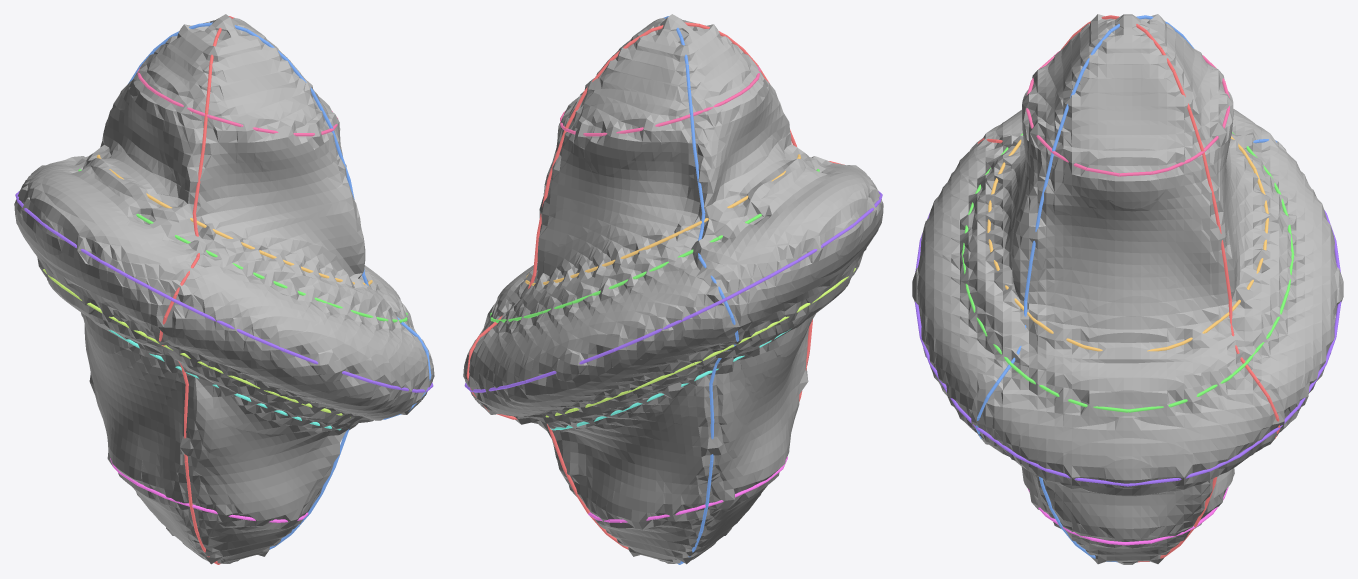
Rendered from flowrep_ellipsetorus.gltf.
3 views of the same model, side by side, from view 1: azimuth 30°, elevation 25°; view 2: azimuth 150°, elevation 25°; view 3: azimuth 270°, elevation 25° (orthographic).
Size of the model in its own units: 0.4982 by 0.722 by 0.514.
